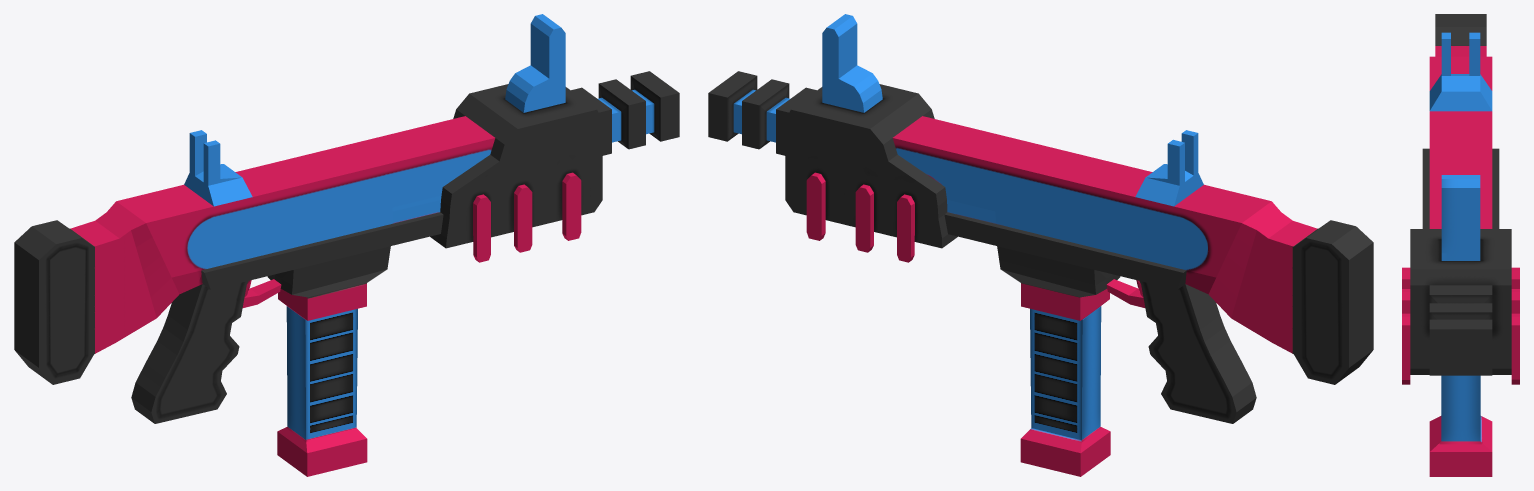
Rendered from SMG_low.fbx.
3 renders of one model, left to right at view 1: azimuth 30°, elevation 25°; view 2: azimuth 150°, elevation 25°; view 3: azimuth 270°, elevation 25°, orthographic. The views are drawn at different scales.
Visible parts, largest first — view 1: SMG_model_0002:pCube3; view 2: SMG_model_0002:pCube3; view 3: SMG_model_0002:pCube3.
Boxes of the visible parts, x1=… form: SMG_model_0002:pCube3: x1=14, y1=14, x2=679, y2=476; SMG_model_0002:pCube3: x1=708, y1=14, x2=1373, y2=476; SMG_model_0002:pCube3: x1=1402, y1=14, x2=1519, y2=476.
Size of the model in its own units: 15.16 by 8.67 by 2.31.
1 material, 1 textured.
